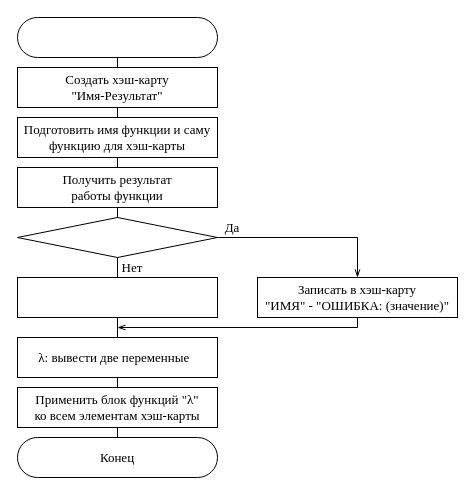
Some shapes in this 475 by 495 pixel diagram are drawn without their labels. Here are the shapes that lost their labels. From the top down, the box of each, then its label:
(16, 16, 218, 58): Отладочный сбор результатов
(16, 216, 218, 258): Значение ошибочное?
(16, 276, 218, 318): Записать в хэш-карту "ИМЯ" - "ОК"
